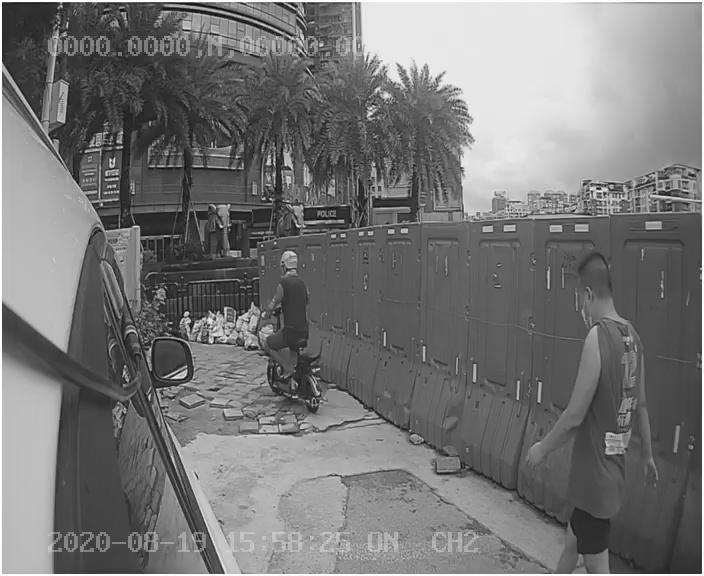person: (526, 248, 679, 547)
